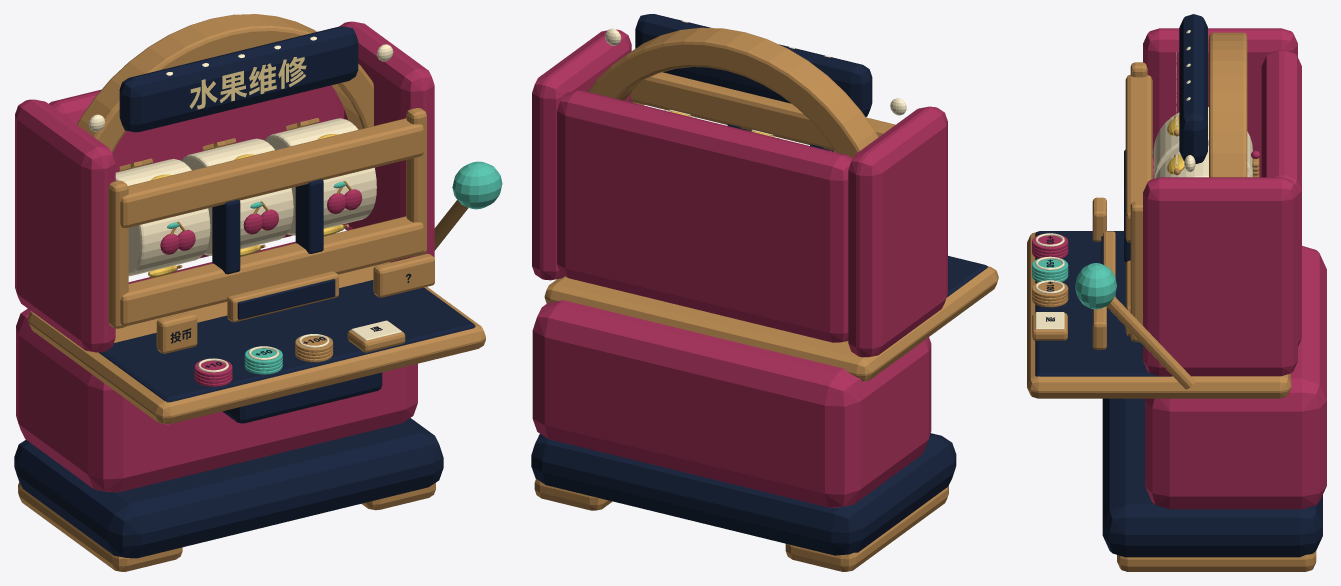
File: S1Slots.fbx
3 renders of one model, left to right at view 1: azimuth 30°, elevation 25°; view 2: azimuth 150°, elevation 25°; view 3: azimuth 270°, elevation 25°, orthographic. The views are drawn at different scales.
Parts seen in each view (by area): view 1: S1Slots.Mesh, Slots.Reel0.Mesh, Slots.Reel1.Mesh, Slots.Reel2.Mesh, StatePlaque.Mesh, S1Slots.PrizeTray, Slots.RulePlate.Mesh, S1Slots.Gripprimary, Slots.CoinInsert.Mesh, Slots.ClearPlate.Mesh, Slots.Chip10.Mesh, Slots.Chip50.Mesh (+2 smaller); view 2: S1Slots.Mesh; view 3: S1Slots.Mesh, S1Slots.LeverStem, Slots.Reel0.Mesh, S1Slots.Gripprimary, Slots.ClearPlate.Mesh, Slots.Chip100.Mesh, Slots.Reel1.Mesh, Slots.Chip50.Mesh, Slots.Chip10.Mesh, Slots.RulePlate.Mesh, Slots.CoinInsert.Mesh, StatePlaque.Mesh.
Boxes of the visible parts, x1=… form: S1Slots.Mesh: x1=14, y1=14, x2=485, y2=571; Slots.Reel0.Mesh: x1=115, y1=158, x2=210, y2=277; Slots.Reel1.Mesh: x1=181, y1=138, x2=293, y2=256; Slots.Reel2.Mesh: x1=264, y1=118, x2=376, y2=235; StatePlaque.Mesh: x1=227, y1=271, x2=338, y2=322; S1Slots.PrizeTray: x1=222, y1=372, x2=382, y2=423; Slots.RulePlate.Mesh: x1=373, y1=253, x2=434, y2=297; S1Slots.Gripprimary: x1=452, y1=161, x2=502, y2=209; Slots.CoinInsert.Mesh: x1=156, y1=312, x2=197, y2=353; Slots.ClearPlate.Mesh: x1=347, y1=320, x2=405, y2=352; Slots.Chip10.Mesh: x1=194, y1=358, x2=232, y2=386; Slots.Chip50.Mesh: x1=244, y1=346, x2=282, y2=374; S1Slots.Mesh: x1=531, y1=14, x2=998, y2=571; S1Slots.Mesh: x1=1027, y1=14, x2=1326, y2=571; S1Slots.LeverStem: x1=1106, y1=296, x2=1194, y2=389; Slots.Reel0.Mesh: x1=1152, y1=107, x2=1260, y2=178; S1Slots.Gripprimary: x1=1075, y1=263, x2=1116, y2=309; Slots.ClearPlate.Mesh: x1=1032, y1=312, x2=1067, y2=340; Slots.Chip100.Mesh: x1=1032, y1=280, x2=1068, y2=307; Slots.Reel1.Mesh: x1=1156, y1=146, x2=1250, y2=178; Slots.Chip50.Mesh: x1=1032, y1=256, x2=1068, y2=281; Slots.Chip10.Mesh: x1=1032, y1=233, x2=1068, y2=258; Slots.RulePlate.Mesh: x1=1092, y1=306, x2=1106, y2=349; Slots.CoinInsert.Mesh: x1=1092, y1=197, x2=1106, y2=241; StatePlaque.Mesh: x1=1101, y1=231, x2=1115, y2=296.
Bounding box in the file's own units: 223 × 260 × 157.
